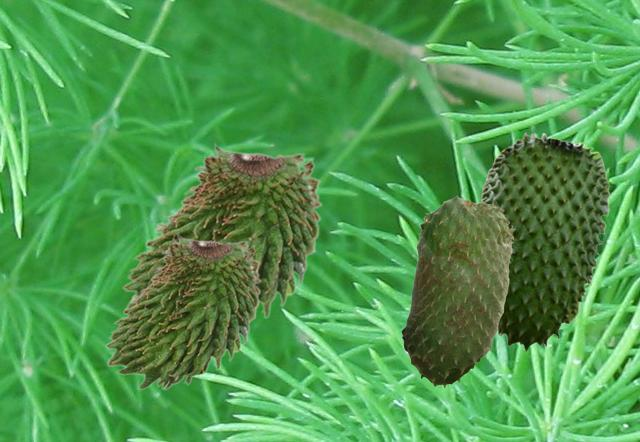guyabano: (121, 142, 322, 323), (480, 132, 609, 351), (104, 232, 261, 389), (400, 195, 514, 387)
